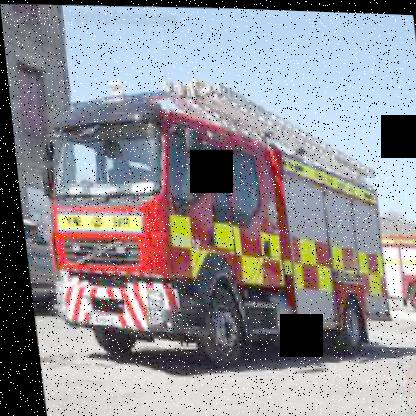emergency: (17, 61, 415, 376)
